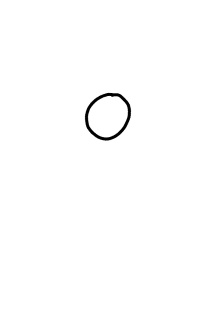Circle: (83, 90, 133, 142)
